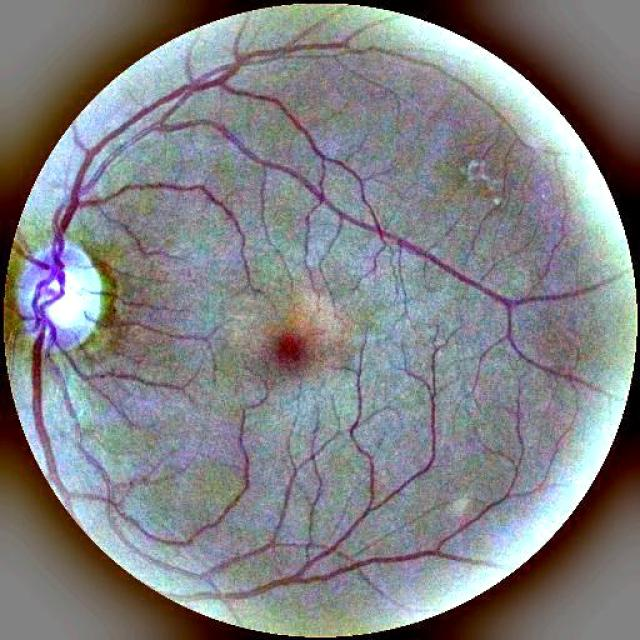Macula: (278, 332, 301, 359)
Nerves: (46, 37, 617, 414), (22, 294, 90, 512)
Optic Disk: (18, 239, 104, 349)
